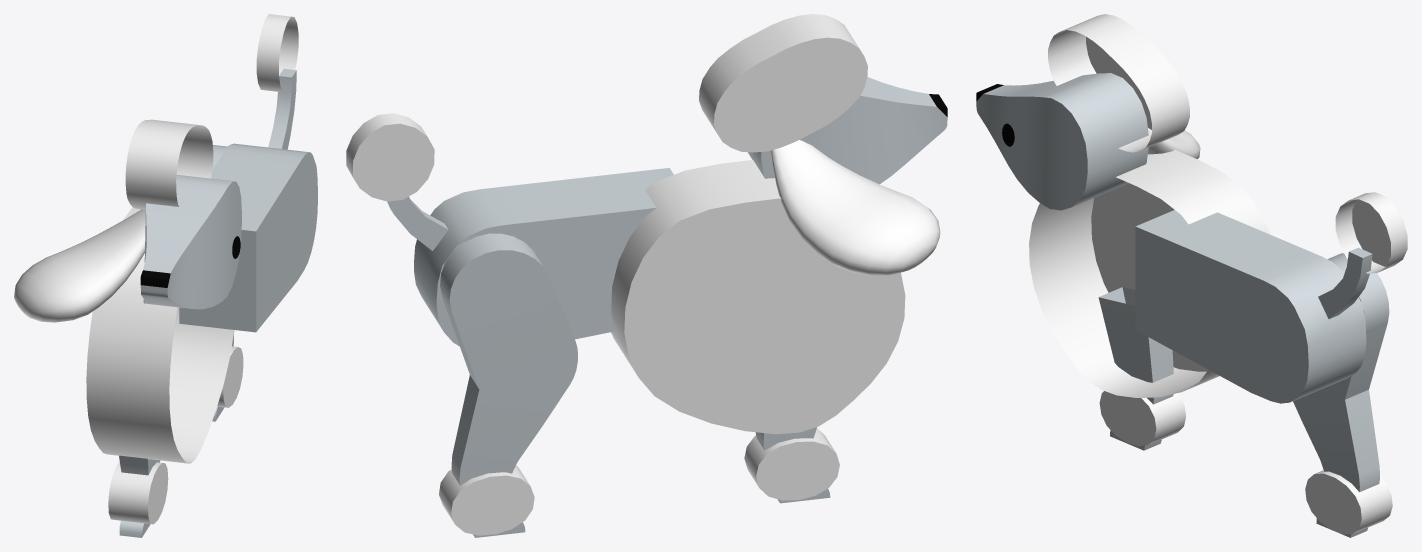
Rendered from poodle.glb.
The picture shows the model from 3 angles, left to right: view 1: azimuth 30°, elevation 25°; view 2: azimuth 150°, elevation 25°; view 3: azimuth 270°, elevation 25°; orthographic projection. The views are drawn at different scales.
Visible parts, largest first — view 1: Cube.004, Cube.6178, Cone.005, Cone.006, Cube.6179; view 2: Cube.004, Cube.6179, Cube.6178, Cone.006, Cone.005; view 3: Cube.004, Cube.6178, Cone.005, Cube.6179, Cone.006.
Part boxes in pixels (x1,y1,x2,y2): Cube.004: (86, 14, 298, 524); Cube.6178: (179, 68, 317, 332); Cone.005: (140, 175, 241, 309); Cone.006: (14, 209, 145, 322); Cube.6179: (119, 145, 234, 537); Cube.004: (346, 14, 905, 535); Cube.6179: (440, 233, 830, 537); Cube.6178: (387, 168, 673, 346); Cone.006: (771, 140, 940, 275); Cone.005: (748, 77, 947, 184); Cube.004: (1029, 14, 1407, 534); Cube.6178: (1135, 210, 1372, 403); Cone.005: (976, 73, 1148, 210); Cube.6179: (1098, 253, 1389, 537); Cone.006: (1148, 128, 1200, 158).
Bounding box in the file's own units: 2.05 × 2 × 1.87.
Materials: 1 (1 with a texture image).
